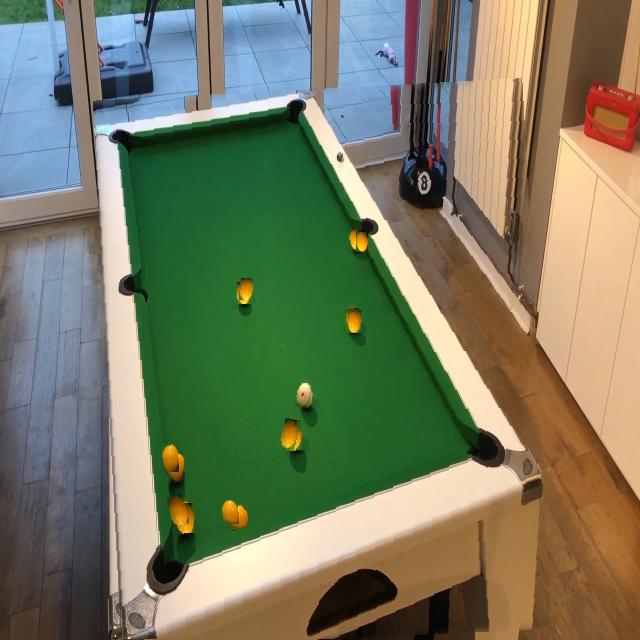Ball: (167, 495, 188, 527), (281, 418, 299, 450), (163, 443, 179, 472), (296, 383, 312, 407), (223, 500, 239, 524), (348, 310, 362, 333), (240, 278, 254, 300), (356, 232, 368, 252)
Billiard table: (99, 83, 544, 640)
